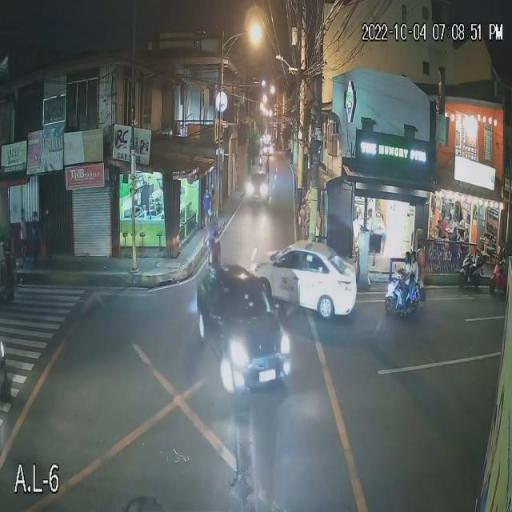helmet: (410, 250, 418, 264), (404, 251, 412, 263)
motorcycle: (383, 278, 422, 314)
rider: (400, 264, 411, 318), (407, 263, 419, 307)
